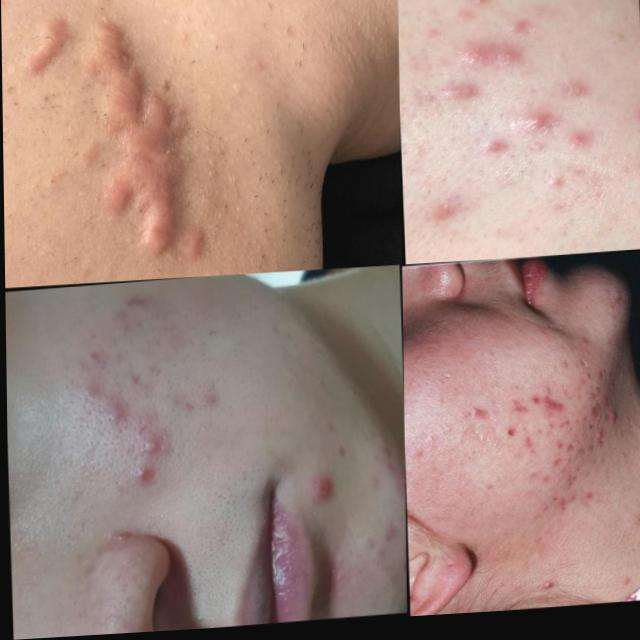6: (83, 6, 206, 282), (22, 8, 72, 83)
8: (300, 468, 338, 517), (374, 446, 403, 509), (458, 402, 488, 437), (526, 119, 559, 149), (502, 23, 540, 49), (447, 88, 481, 117), (101, 399, 134, 427), (563, 141, 607, 160), (125, 463, 154, 490), (323, 565, 346, 596), (471, 147, 511, 164), (76, 384, 110, 401)
9: (107, 526, 141, 549)
blackheads: (445, 47, 528, 79), (131, 433, 162, 464), (465, 0, 509, 19), (539, 399, 565, 426), (506, 409, 531, 426), (544, 462, 562, 481), (563, 447, 581, 464), (590, 375, 606, 393)
pustules: (539, 585, 557, 600)
